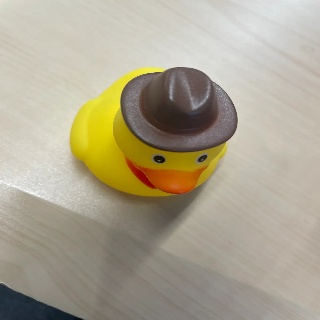duck_specialty: (70, 65, 237, 198)
